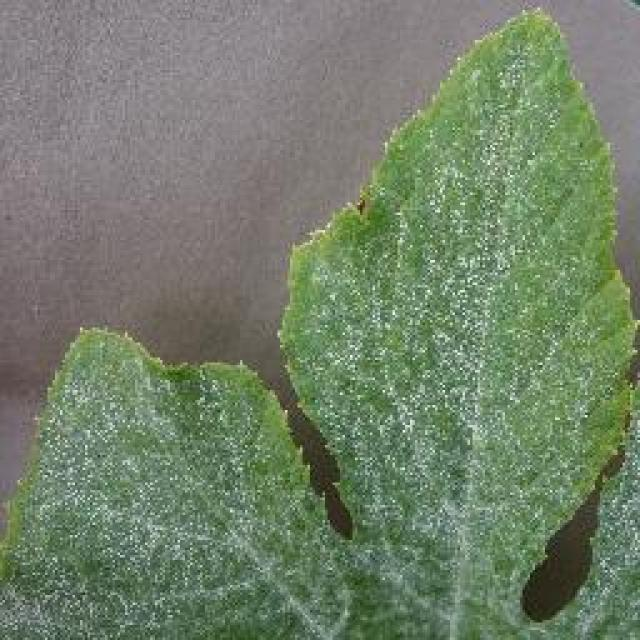Squ_Powdery_mildew: (376, 142, 598, 640), (58, 370, 304, 640)
